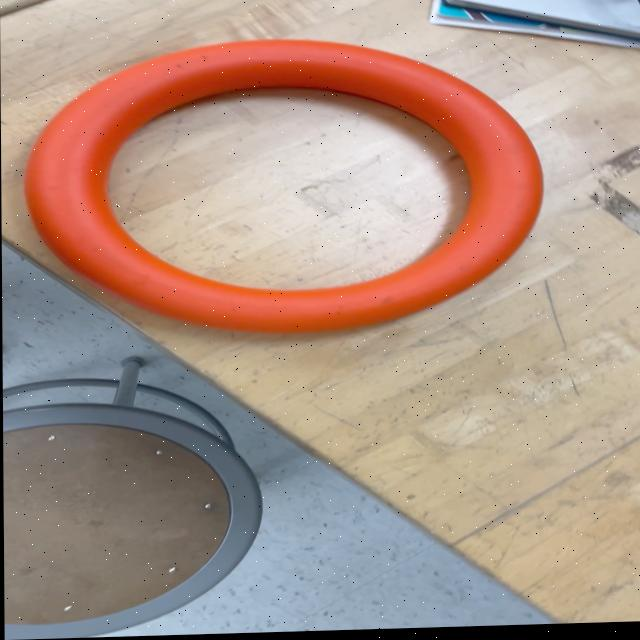note: (21, 34, 549, 346)
